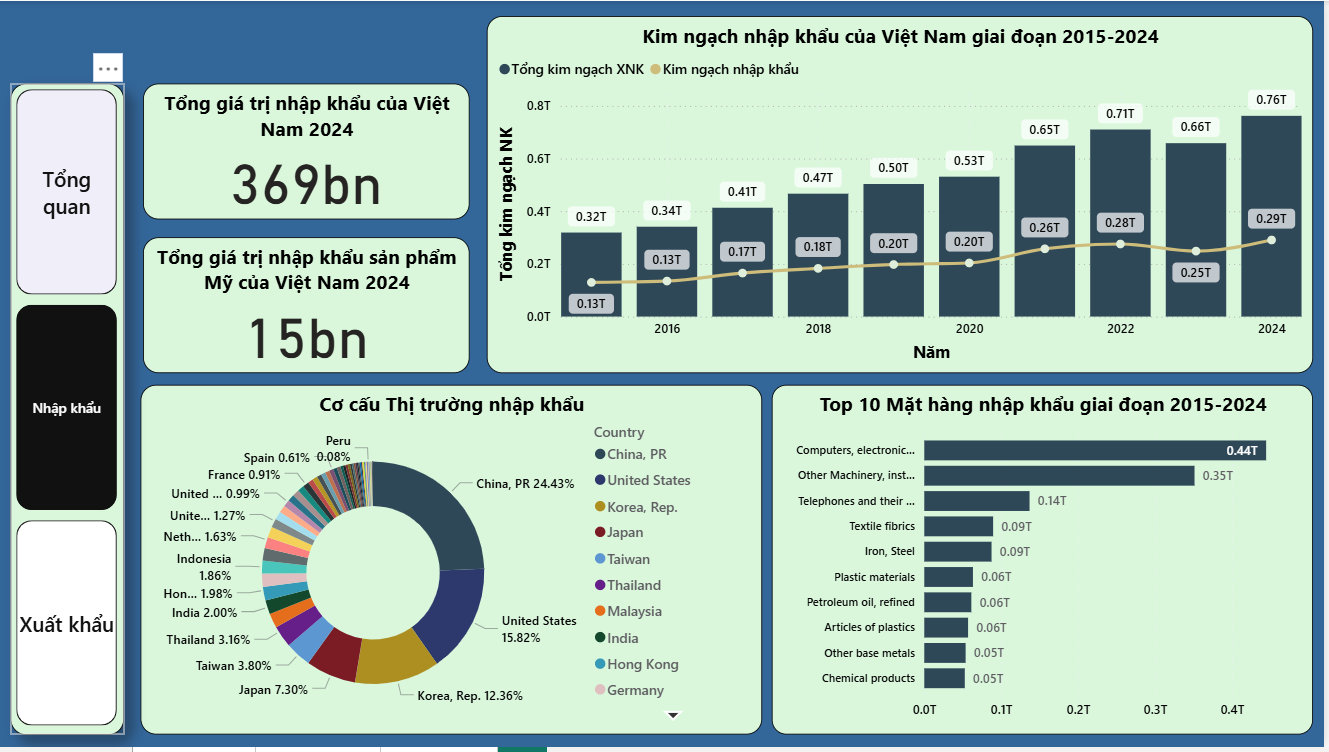

The dashboard page shown, as its layout file describes it:
{"tool":"powerbi","page":{"name":"Nhập khẩu","canvas":[1280,720],"ordinal":1},"visuals":[{"type":"card","title":"Tổng giá trị nhập khẩu của Việt Nam 2024","fields":{"Values":["Sum(Vietnam Imports and Exports by country and territory.Value_USD)"]},"box":[139.9,79.6,314.9,131.5],"z":0},{"type":"barChart","title":"Top 10 Mặt hàng nhập khẩu giai đoạn 2015-2024","fields":{"Category":["Vietnam Imports by some main country groups, countries, territories and by main.Item"],"Y":["Sum(Vietnam Imports by some main country groups, countries, territories and by main.Value_USD)"]},"box":[746.8,370.4,522.4,337.8],"z":1000},{"type":"donutChart","title":"Cơ cấu Thị trường nhập khẩu","fields":{"Category":["Vietnam Imports and Exports by country and territory.Country"],"Y":["Sum(Vietnam Imports and Exports by country and territory.Value_USD)"]},"box":[137.5,370.4,599.6,337.8],"z":2000},{"type":"lineStackedColumnComboChart","title":"Kim ngạch nhập khẩu của Việt Nam giai đoạn 2015-2024","fields":{"Category":["Vietnam Imports and Exports by country and territory.Year"],"Y":["Sum(Vietnam Imports and Exports by country and territory.Value_USD)"],"Y2":["Sum(Vietnam Imports by some main country groups, countries, territories and by main.Value_USD)"]},"box":[471.7,14.5,797.5,345],"z":3000},{"type":"card","title":"Tổng giá trị nhập khẩu sản phẩm Mỹ của Việt Nam 2024","fields":{"Values":["Sum(Vietnam Imports and Exports by country and territory.Value_USD)"]},"box":[139.9,228,314.9,131.5],"z":4000},{"type":"qnaVisual","title":"Nhập khẩu Việt Nam ","box":[10.9,14.5,444,50.7],"z":5000},{"type":"pageNavigator","box":[12.1,79.6,109.8,628.6],"z":6000}]}

Visuals, with their boxes on the page's 1280x720 design canvas (x1, y1, x2, y2). These are canvas units, not pixel positions in the 1329x752 screenshot, which may show the page scaled, cropped or inside an application window:
"Tổng giá trị nhập khẩu của Việt Nam 2024" card: {"left": 140, "top": 80, "right": 455, "bottom": 211}
"Top 10 Mặt hàng nhập khẩu giai đoạn 2015-2024" barChart: {"left": 747, "top": 370, "right": 1269, "bottom": 708}
"Cơ cấu Thị trường nhập khẩu" donutChart: {"left": 138, "top": 370, "right": 737, "bottom": 708}
"Kim ngạch nhập khẩu của Việt Nam giai đoạn 2015-2024" lineStackedColumnComboChart: {"left": 472, "top": 14, "right": 1269, "bottom": 360}
"Tổng giá trị nhập khẩu sản phẩm Mỹ của Việt Nam 2024" card: {"left": 140, "top": 228, "right": 455, "bottom": 360}
"Nhập khẩu Việt Nam " qnaVisual: {"left": 11, "top": 14, "right": 455, "bottom": 65}
pageNavigator: {"left": 12, "top": 80, "right": 122, "bottom": 708}
